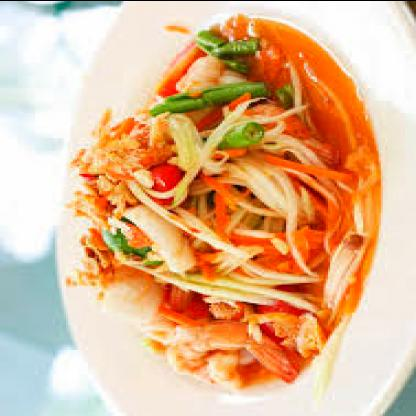Papaya Salad: (58, 24, 370, 409)
